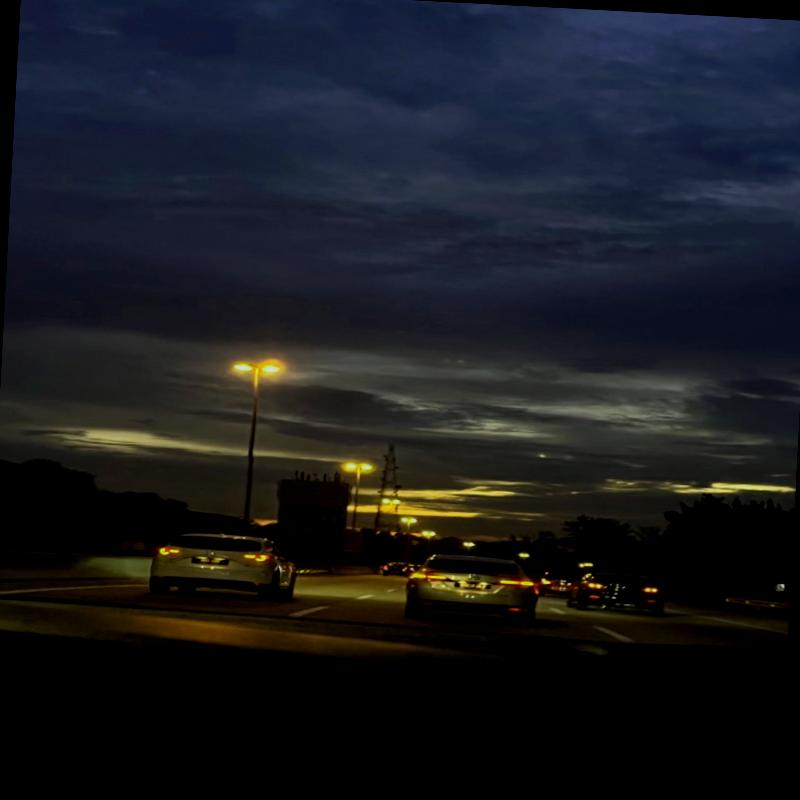license plate on a car: (449, 579, 490, 593), (189, 556, 226, 566)
